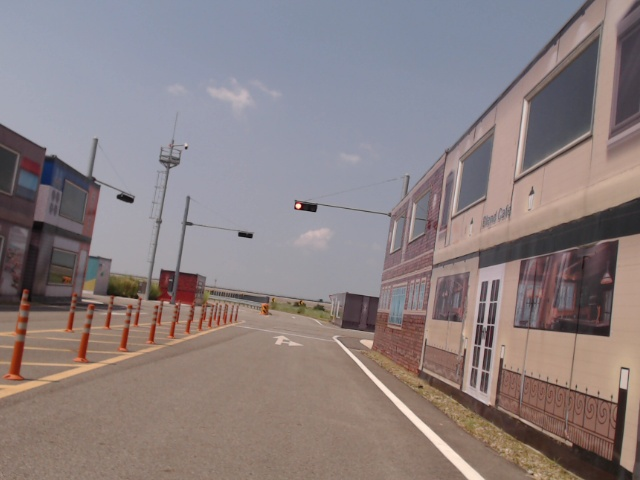red_3: (293, 201, 317, 211)
